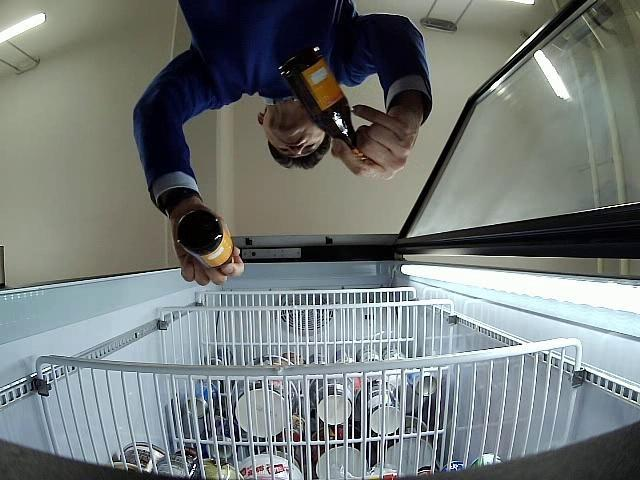17_vita500: (282, 48, 366, 162), (177, 213, 232, 269)
